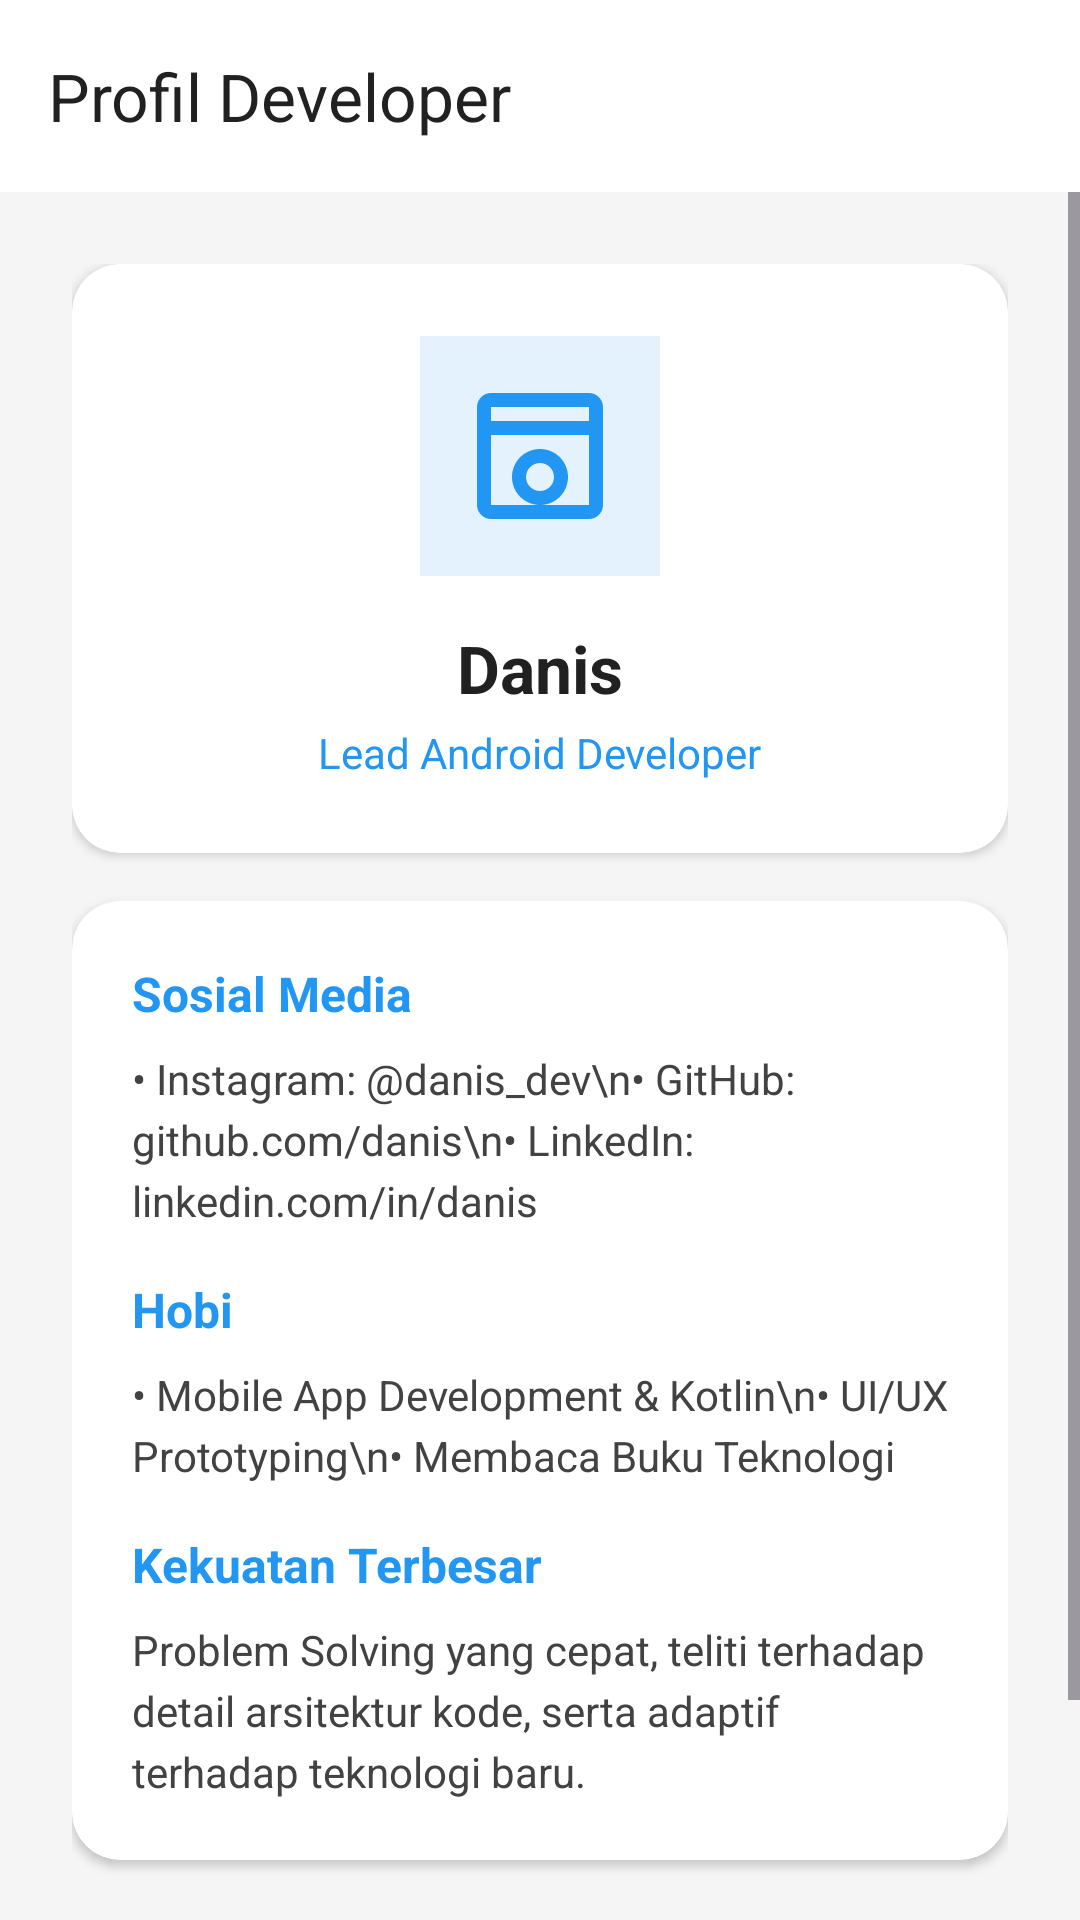

Icon bounding boxes for this 1080px×1920px phone screenshot, format region(x1, y1, x2, y2):
washing machine: region(420, 336, 660, 576)
